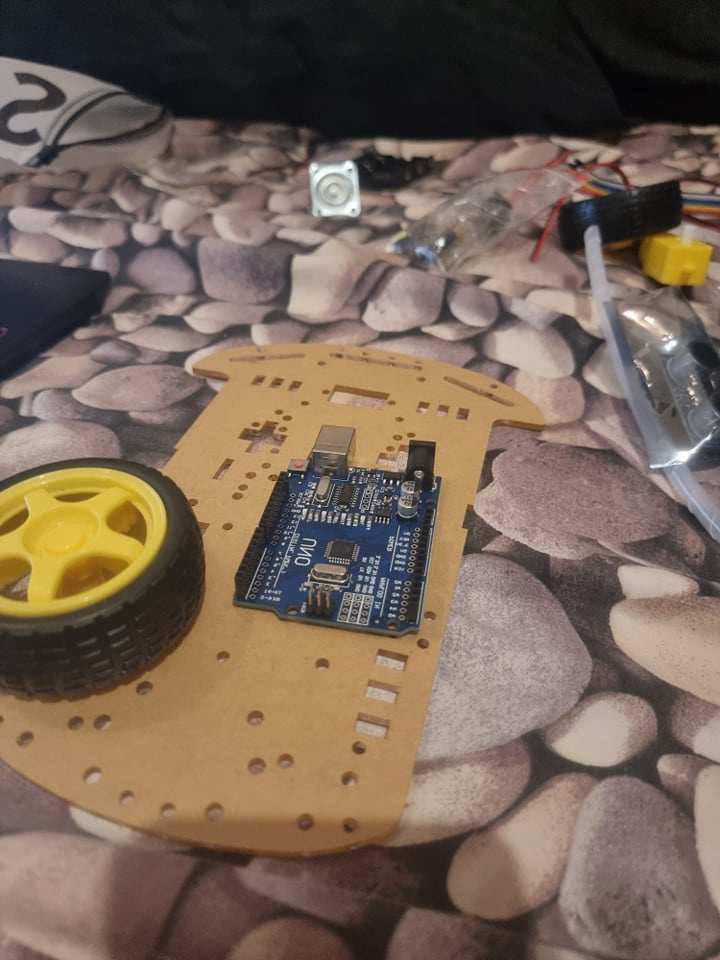BATTERY BOX: (353, 143, 433, 192)
UNO R3: (227, 422, 441, 640)
